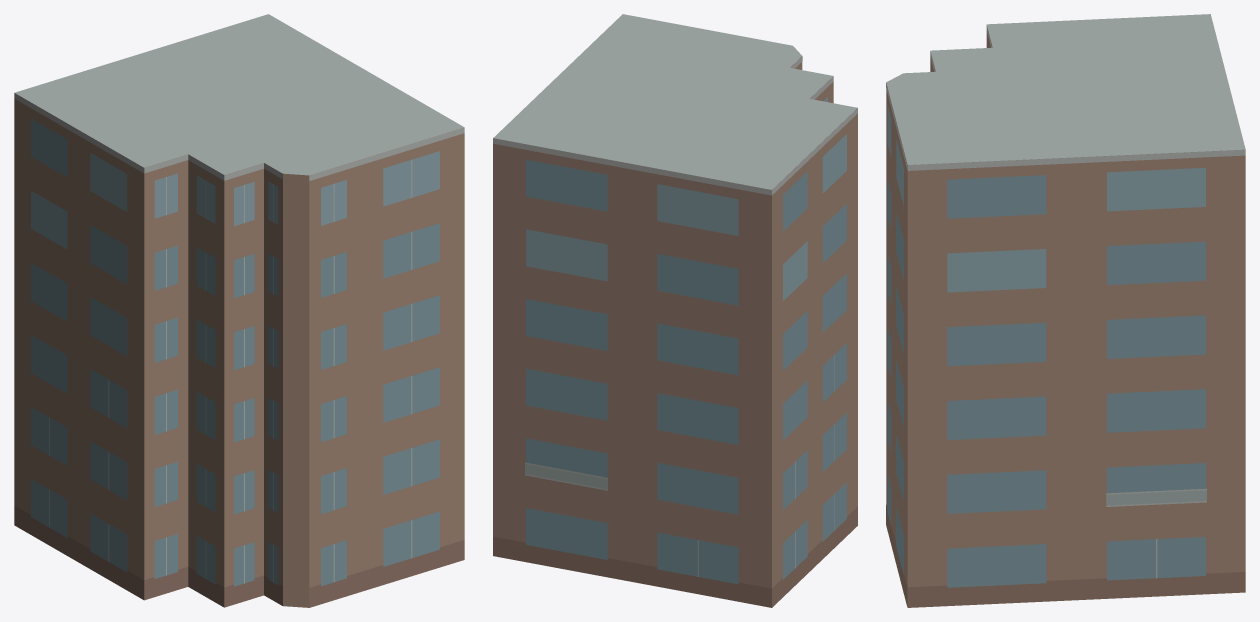
File: survey-upis-33026905.glb
3 renders of one model, left to right at view 1: azimuth 30°, elevation 25°; view 2: azimuth 150°, elevation 25°; view 3: azimuth 270°, elevation 25°, orthographic. The views are drawn at different scales.
Parts seen in each view (by area): view 1: survey-upis-33026905.tmp; view 2: survey-upis-33026905.tmp; view 3: survey-upis-33026905.tmp.
Boxes of the visible parts, box(x1,y1,x2,y2) form: survey-upis-33026905.tmp: box(14, 14, 464, 607); survey-upis-33026905.tmp: box(493, 14, 857, 607); survey-upis-33026905.tmp: box(886, 14, 1245, 607).
Size of the model in its own units: 13.4 by 18.3 by 13.48.
